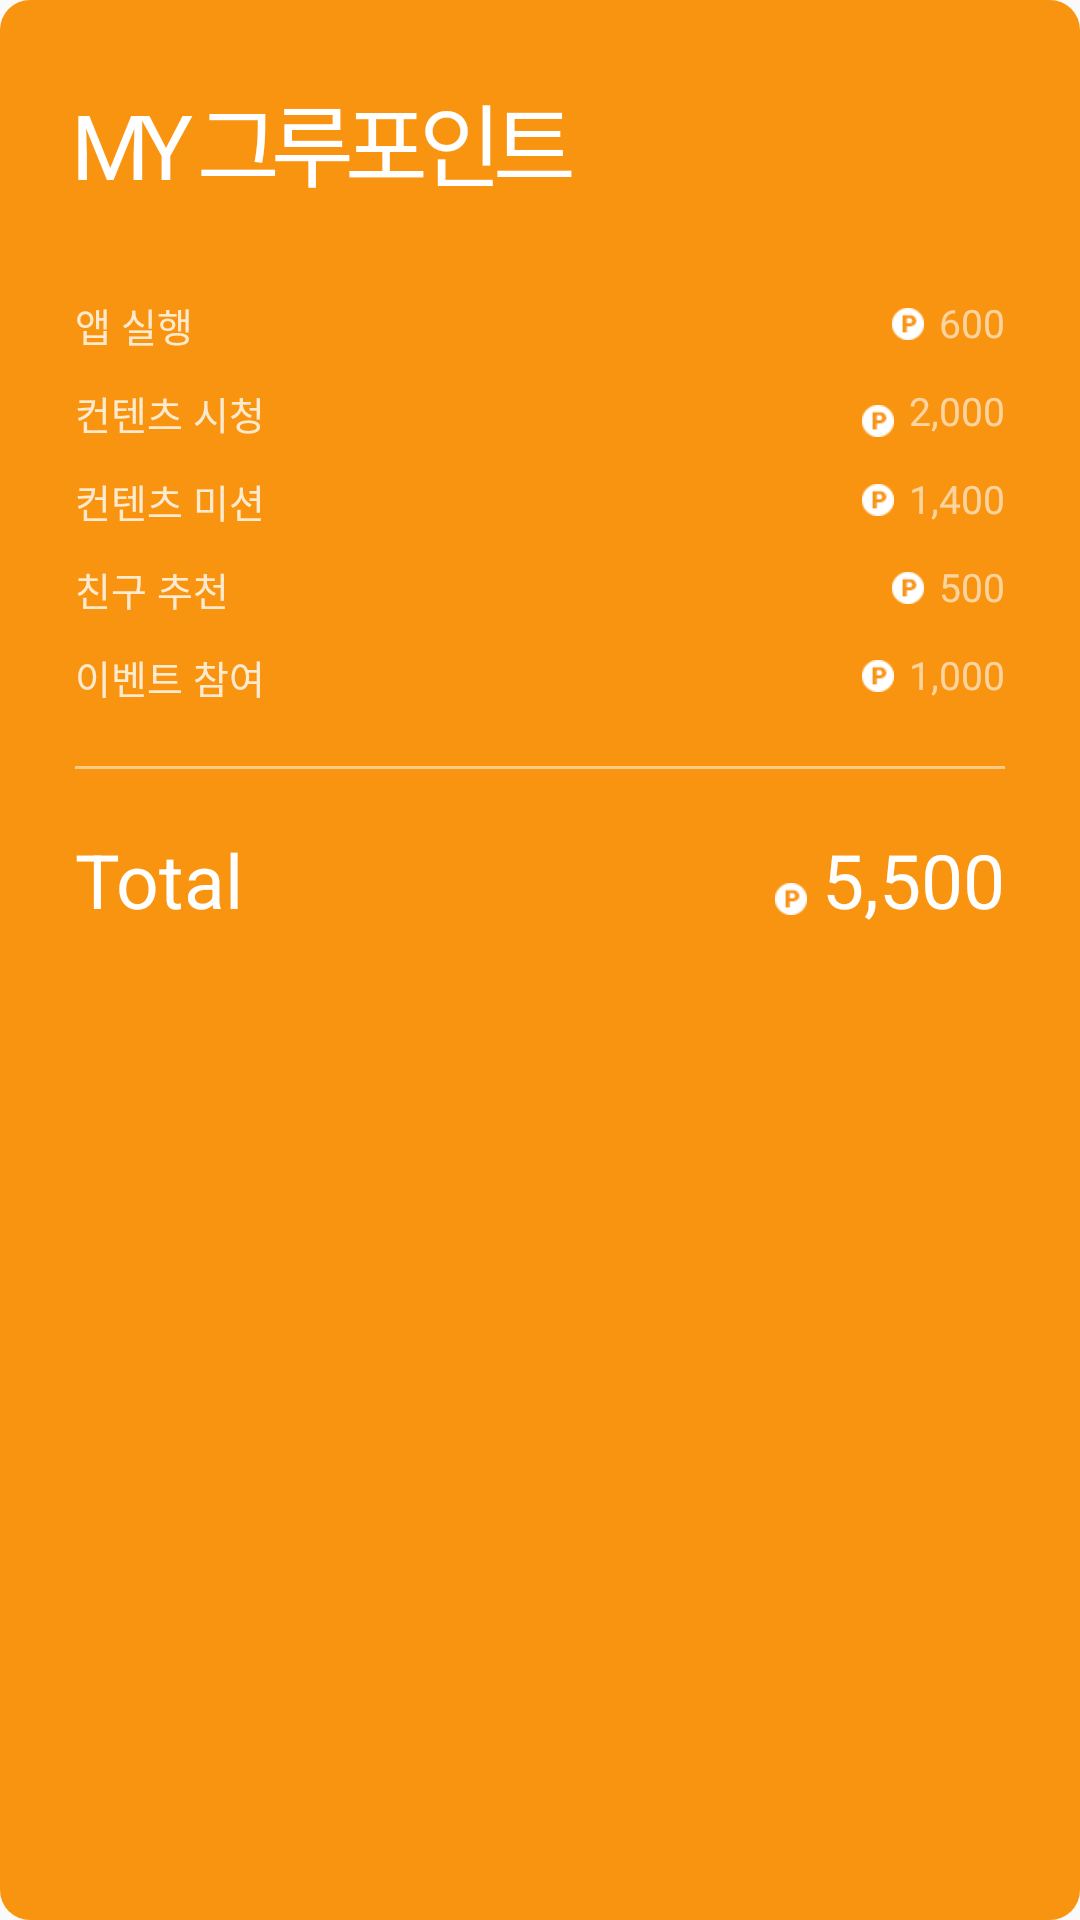

Point at icon controls on the screen. Image size 1080px×1920px, points as (x=x, y=y).
groopoint: (x=908, y=324), (x=878, y=421), (x=878, y=500), (x=908, y=588), (x=878, y=676), (x=791, y=899)
